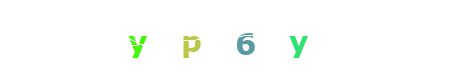6: (195, 0, 275, 80)
P: (145, 0, 225, 80)
Y: (97, 0, 177, 80), (229, 0, 309, 80)
